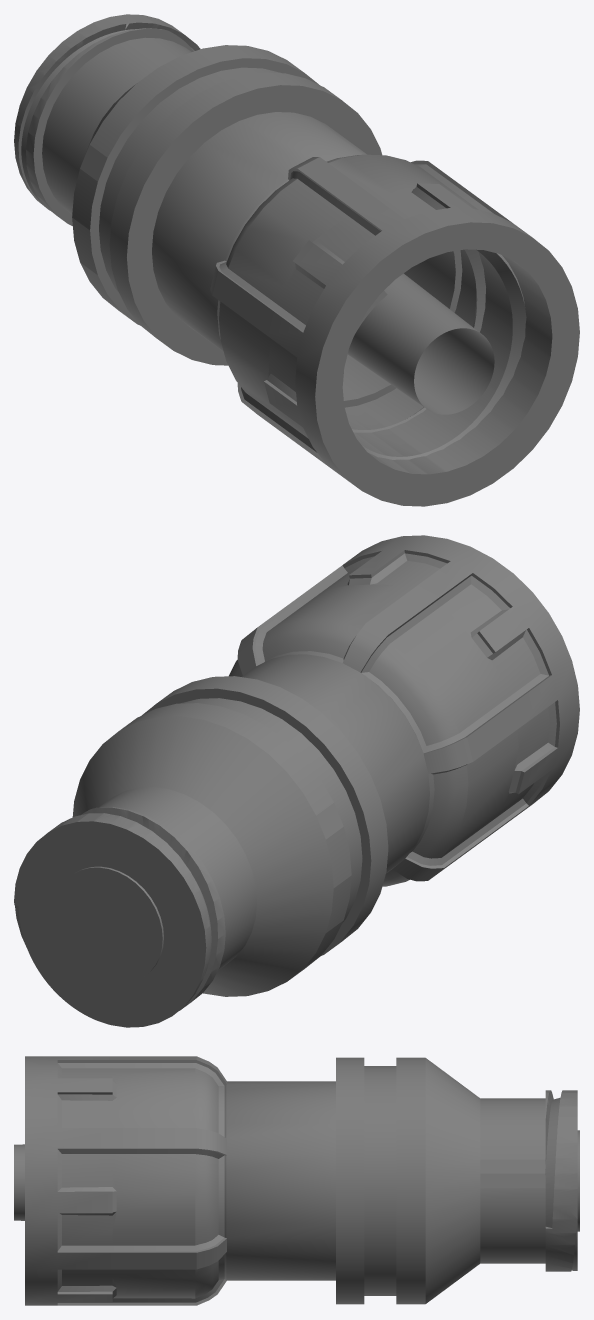
The model's file is salineLock.fbx.
3 views of the same model, one above another, from view 1: azimuth 30°, elevation 25°; view 2: azimuth 150°, elevation 25°; view 3: azimuth 270°, elevation 25° (orthographic). The views are drawn at different scales.
Parts seen in each view (by area): view 1: Boole, blue_stuff_inside; view 2: Boole; view 3: Boole, blue_stuff_inside.
Boxes of the visible parts, x1,y1,x2,y2 form: Boole: (14, 14, 579, 506); blue_stuff_inside: (347, 273, 494, 414); Boole: (14, 535, 579, 1027); Boole: (25, 1056, 579, 1305); blue_stuff_inside: (14, 1144, 24, 1220).
Bounding box in the file's own units: 154 × 154 × 347.
